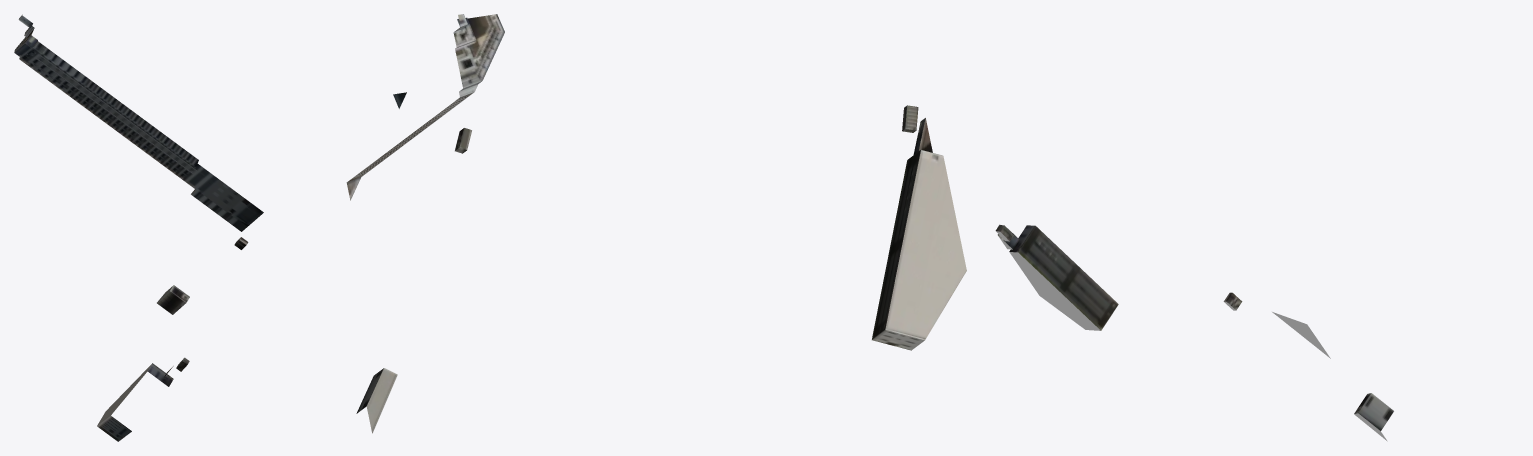
The model's file is 39516_bldg_Building.glb.
3 renders of one model, left to right at view 1: azimuth 30°, elevation 25°; view 2: azimuth 150°, elevation 25°; view 3: azimuth 270°, elevation 25°, orthographic. The views are drawn at different scales.
Size of the model in its own units: 108 by 115 by 150.
Materials: 2 (1 with a texture image).
